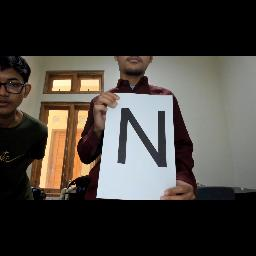n: (112, 104, 174, 172)
